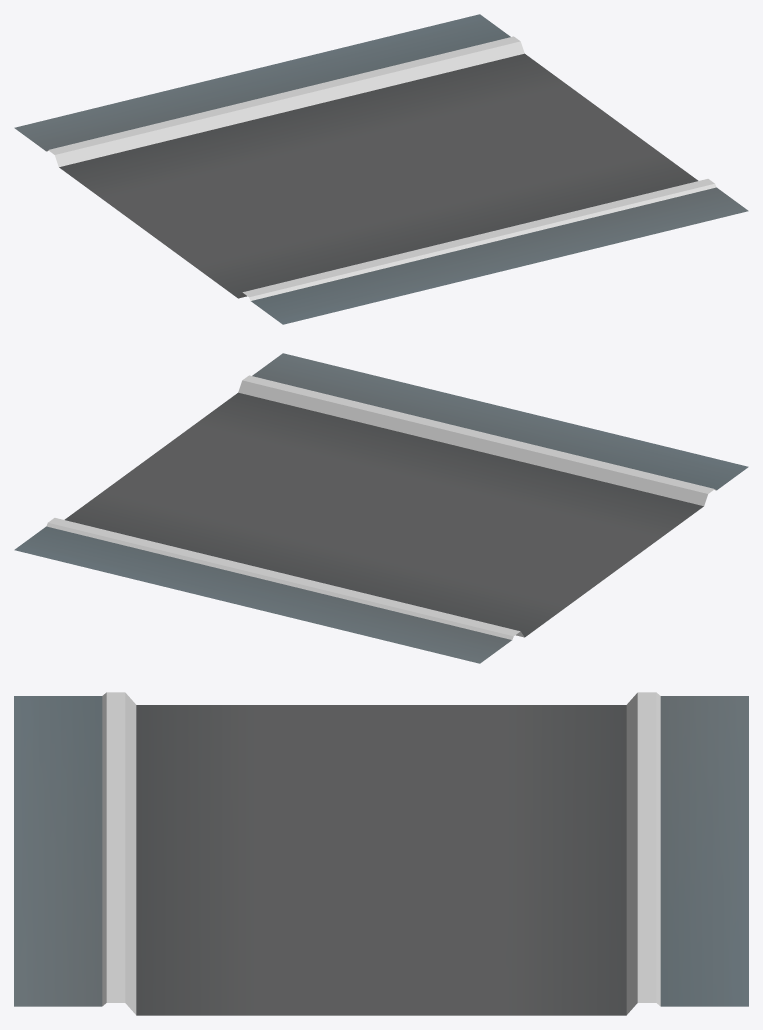
The model's file is SRoad02.fbx.
3 renders of one model, top to bottom at view 1: azimuth 30°, elevation 25°; view 2: azimuth 150°, elevation 25°; view 3: azimuth 270°, elevation 25°, orthographic. The views are drawn at different scales.
Parts seen in each view (by area): view 1: SRoad02; view 2: SRoad02; view 3: SRoad02.
Part boxes in pixels (box(x1,y1,x2,y2)): SRoad02: box(14, 14, 748, 324); SRoad02: box(14, 353, 748, 663); SRoad02: box(14, 692, 748, 1015).
Bounding box in the file's own units: 2 × 0.0379 × 2.
